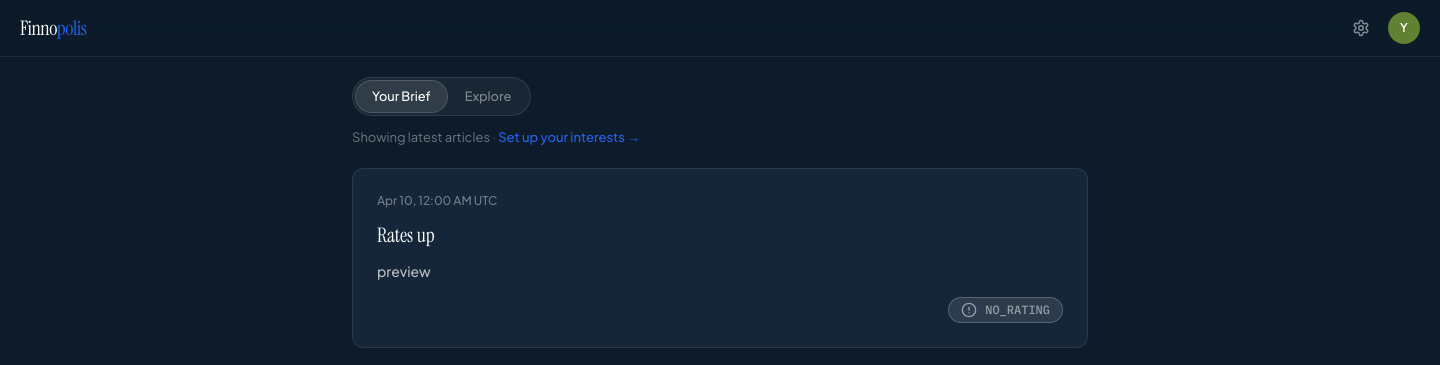
Scenario: Feed — mode switching + chip toggle › shows FeedContextStrip in Brief mode and ExploreChips in Explore mode
expect the button "Set up your interests →" is shown: met, box [498,128,640,148]
expect the button "Macro" is not shown: met
Switch to Explore
Click the tab "Explore": point(488, 97) [448,80,528,113]
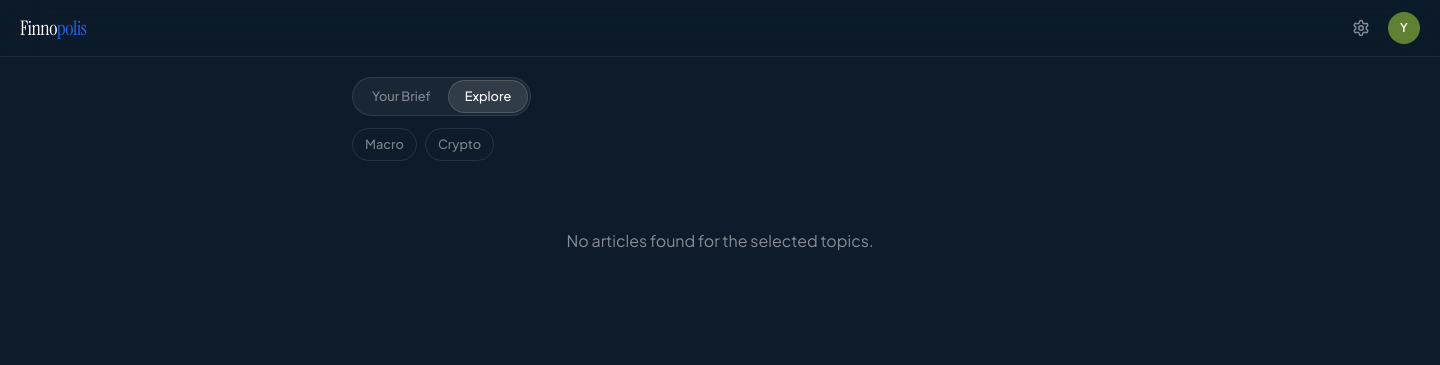
expect the button "Macro" is shown: met, box [352,128,417,161]
expect the button "Set up your interests" is gone: met
